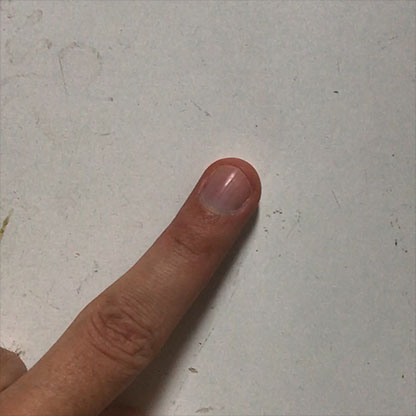fingertip: (196, 147, 269, 238)
